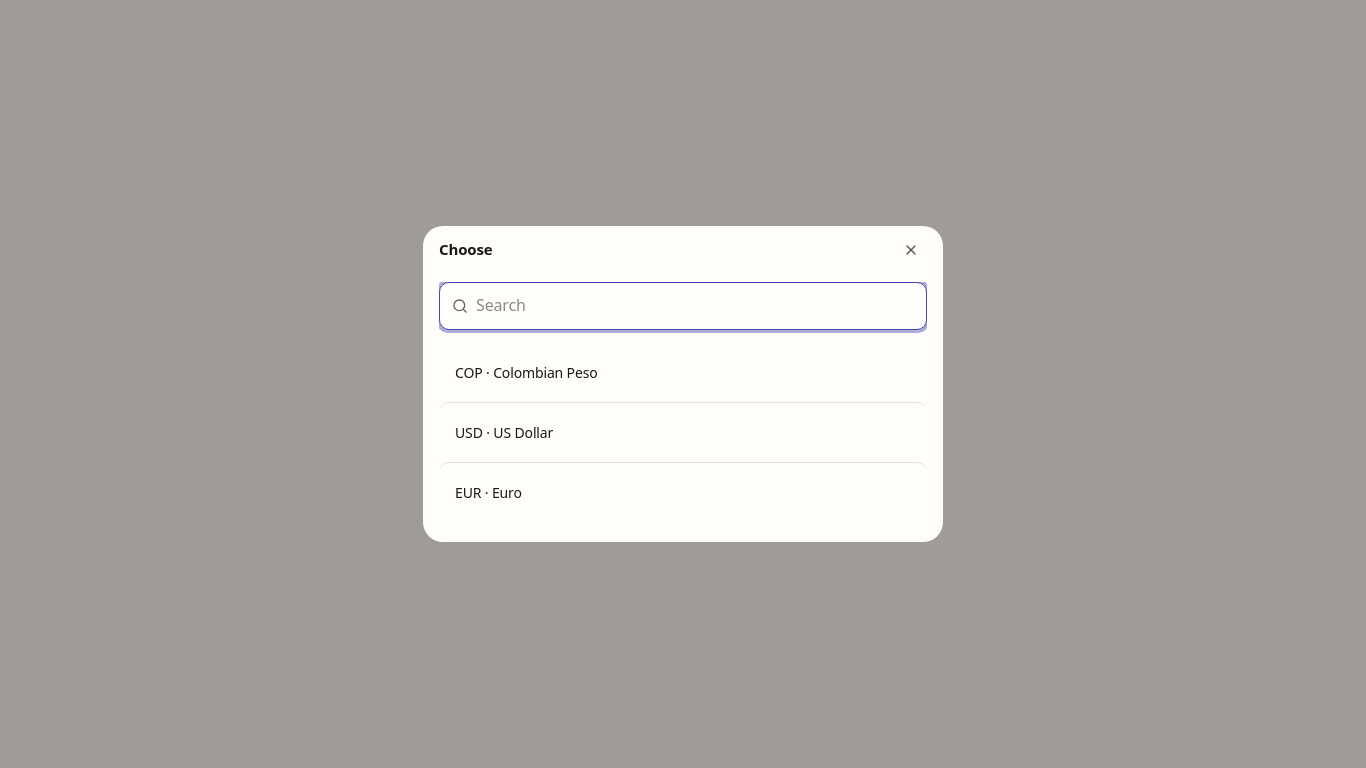
it: PickerSheet › shows an empty state when nothing matches
Type "zzz" into the search field at (695, 306), box [476, 294, 914, 318]
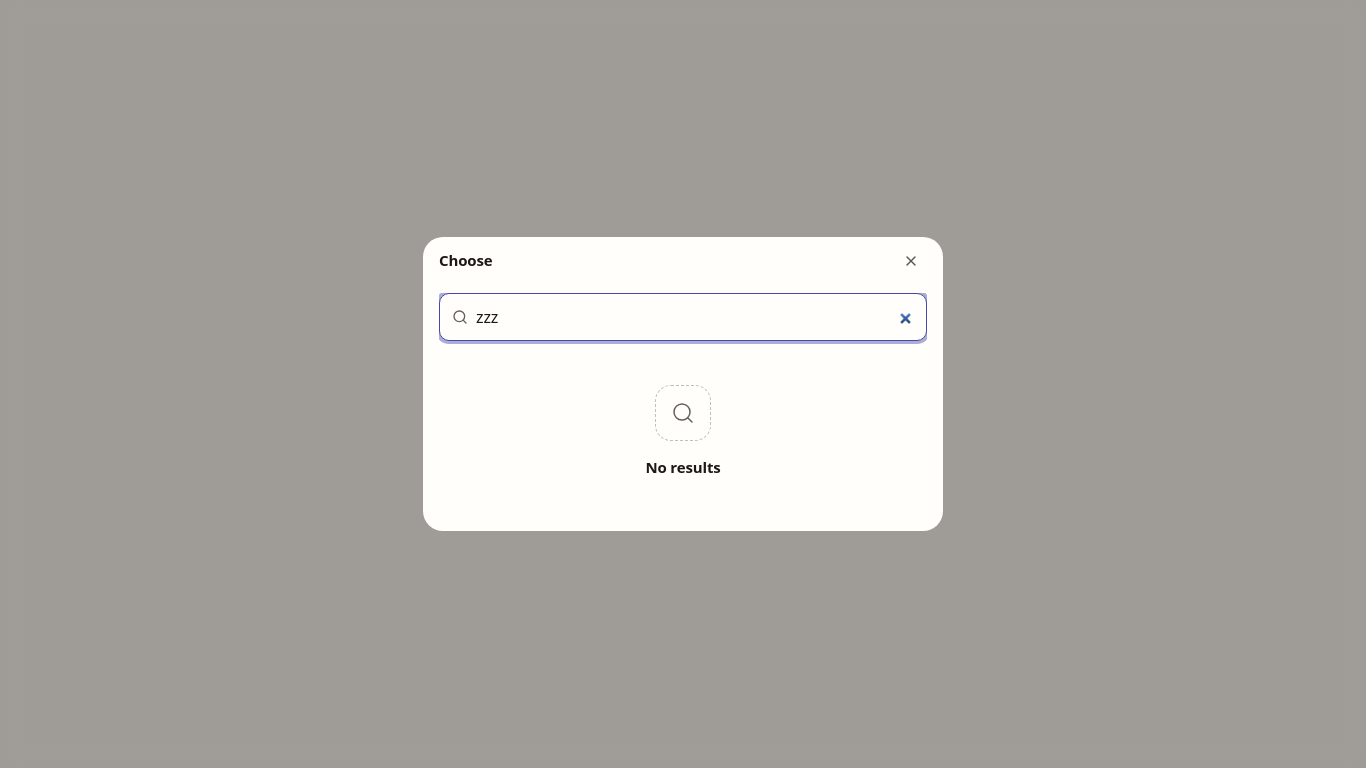
Expected: the heading "No results" is shown, [645, 457, 721, 479]
